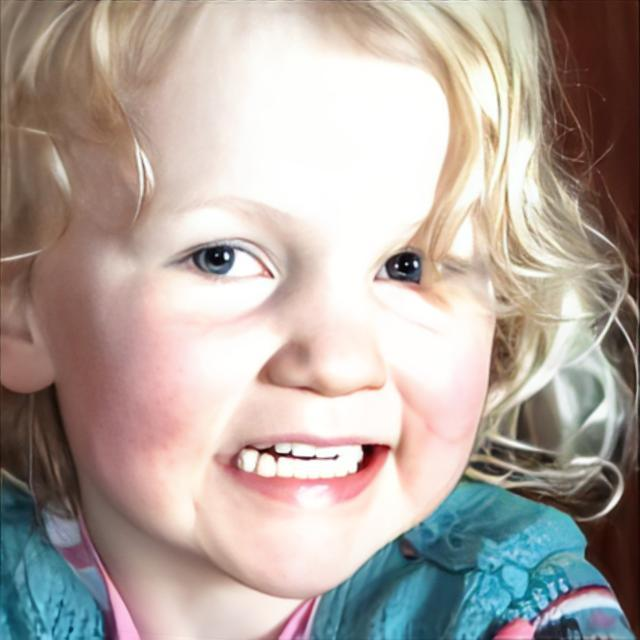disgust: (54, 0, 496, 600)
